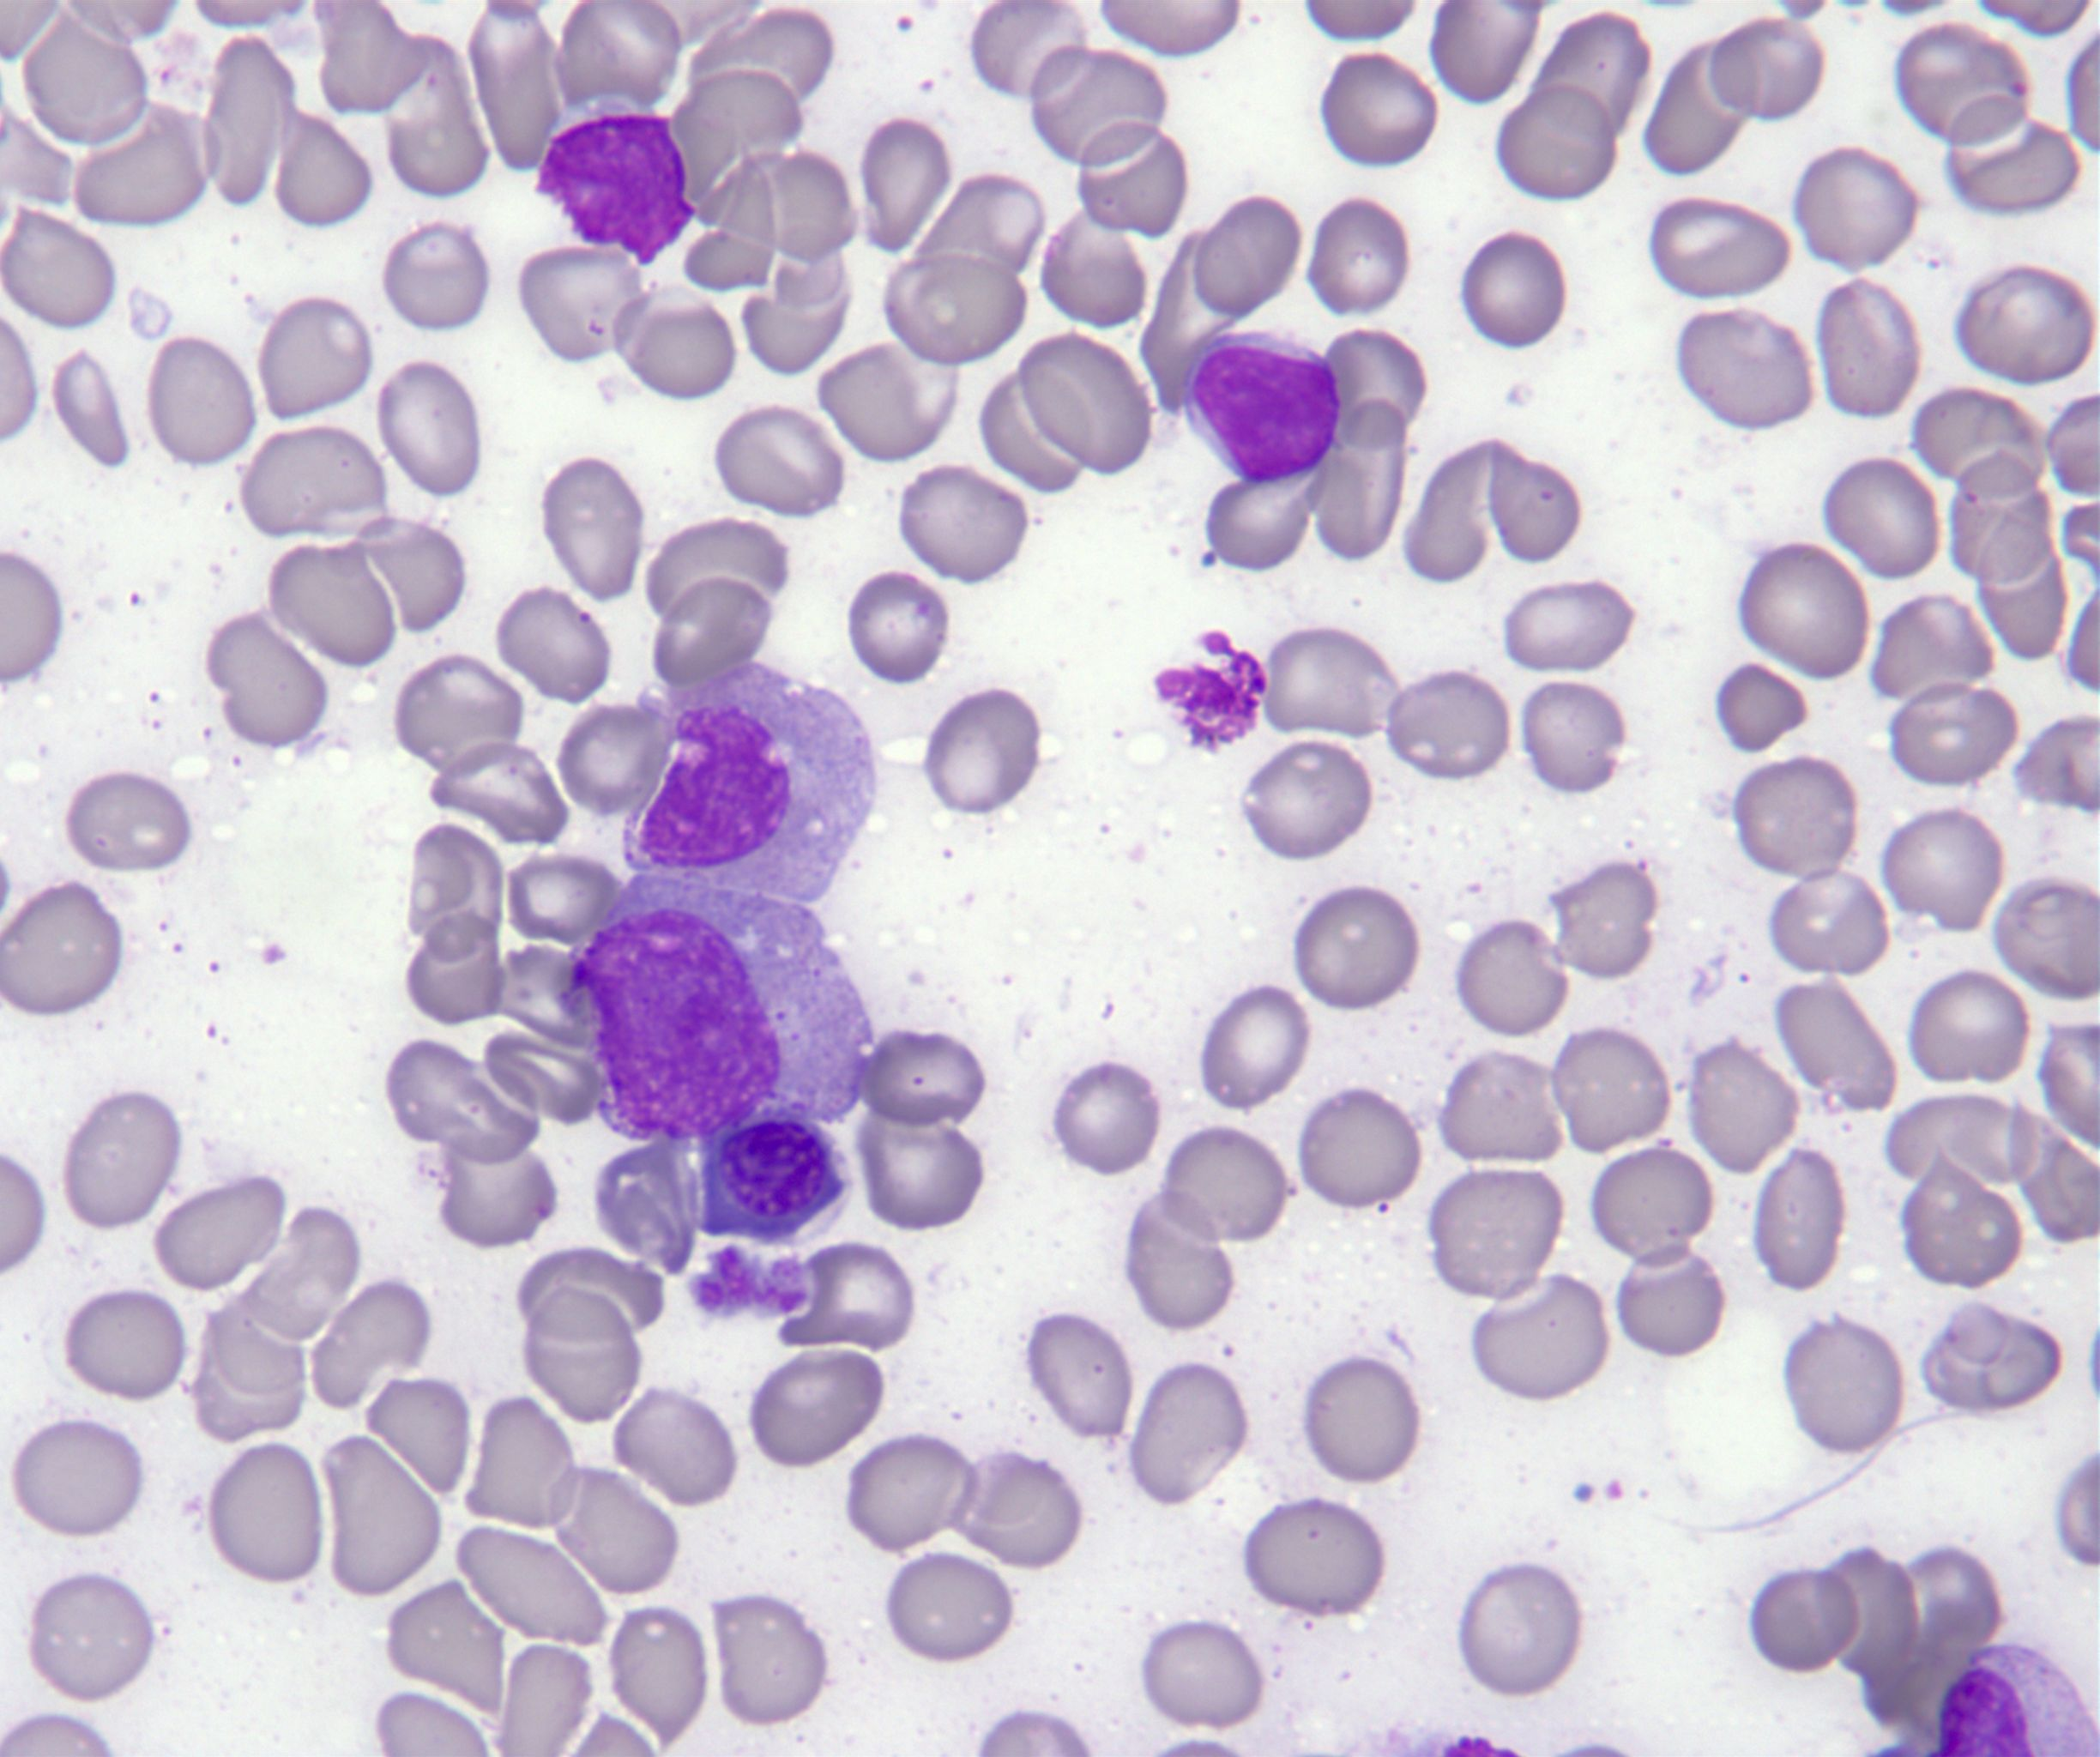24: (703, 1117, 844, 1242)
3: (555, 876, 874, 1141), (623, 665, 874, 902)
32: (1184, 332, 1341, 483)
x: (534, 113, 696, 265), (1938, 1644, 2098, 1757)
